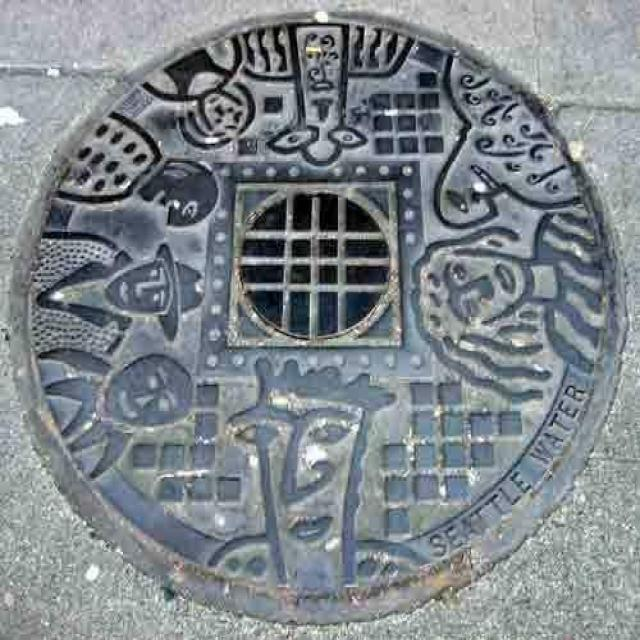manhole: (11, 11, 622, 621)
